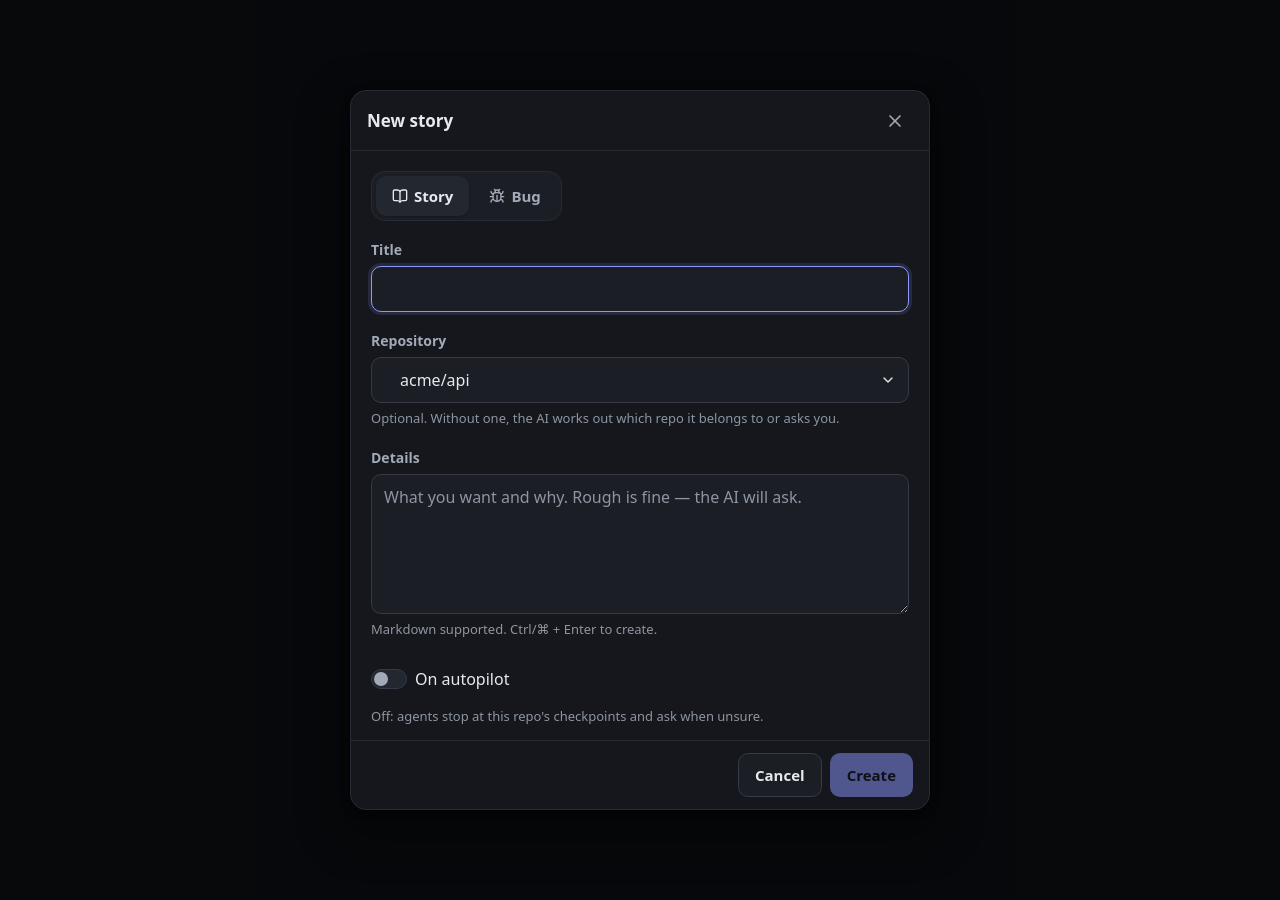
Test: creates a ticket on autopilot when the switch is on
Later steps or results of the test are not shown.
Click the switch with id "create-autonomous". click: (440, 679)
box: [371,668,509,690]
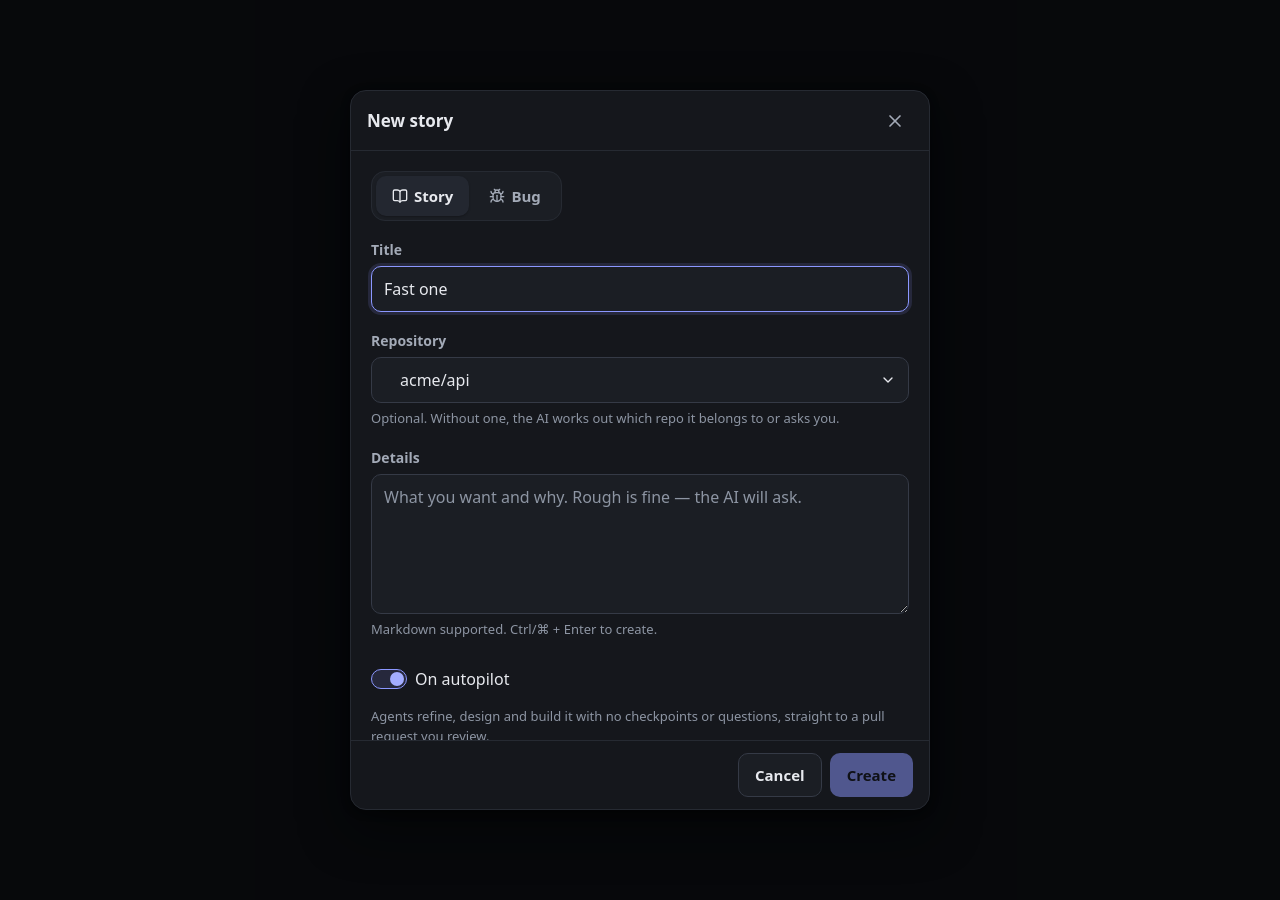
Result: the text with id "create-autonomous-hint" shows "no checkpoints or questions" at [371,707,885,740]
